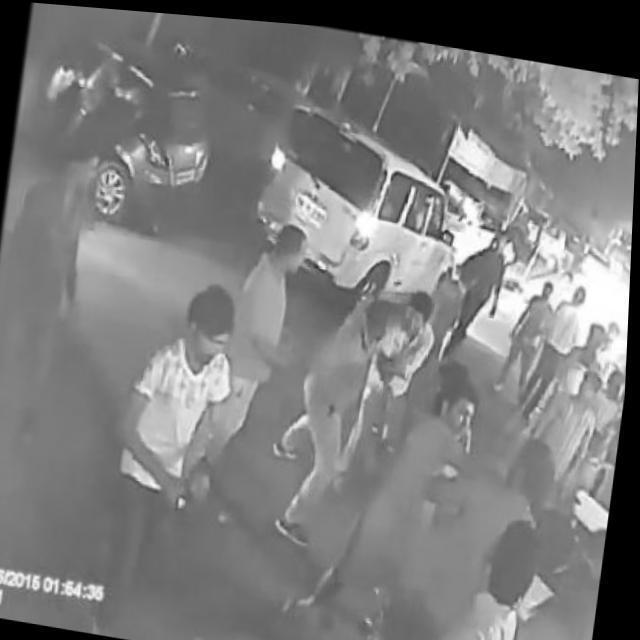fight: (300, 269, 439, 480)
